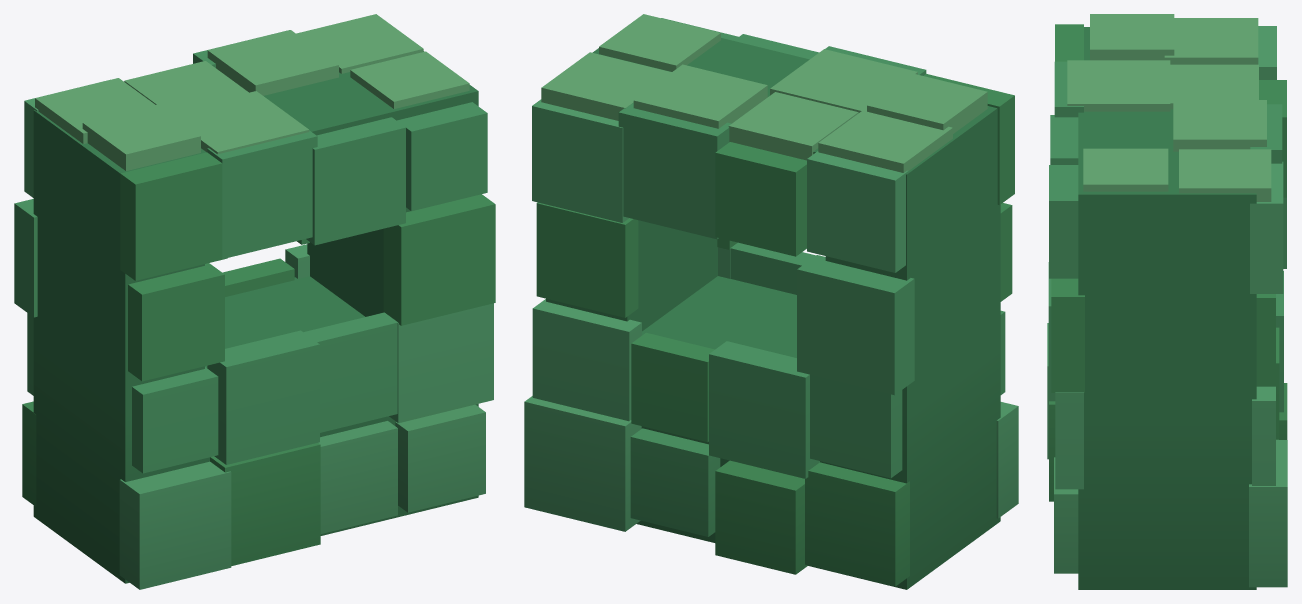
Rendered from hedge-window-h2.2.glb.
The picture shows the model from 3 angles, left to right: view 1: azimuth 30°, elevation 25°; view 2: azimuth 150°, elevation 25°; view 3: azimuth 270°, elevation 25°; orthographic projection. The views are drawn at different scales.
Parts seen in each view (by area): view 1: hedge-window-h2.2_body; view 2: hedge-window-h2.2_body; view 3: hedge-window-h2.2_body.
Boxes of the visible parts, x1=… form: hedge-window-h2.2_body: x1=14, y1=14, x2=495, y2=589; hedge-window-h2.2_body: x1=524, y1=14, x2=1018, y2=589; hedge-window-h2.2_body: x1=1047, y1=14, x2=1287, y2=589.
Bounding box in the file's own units: 2.05 × 2.29 × 1.21.
